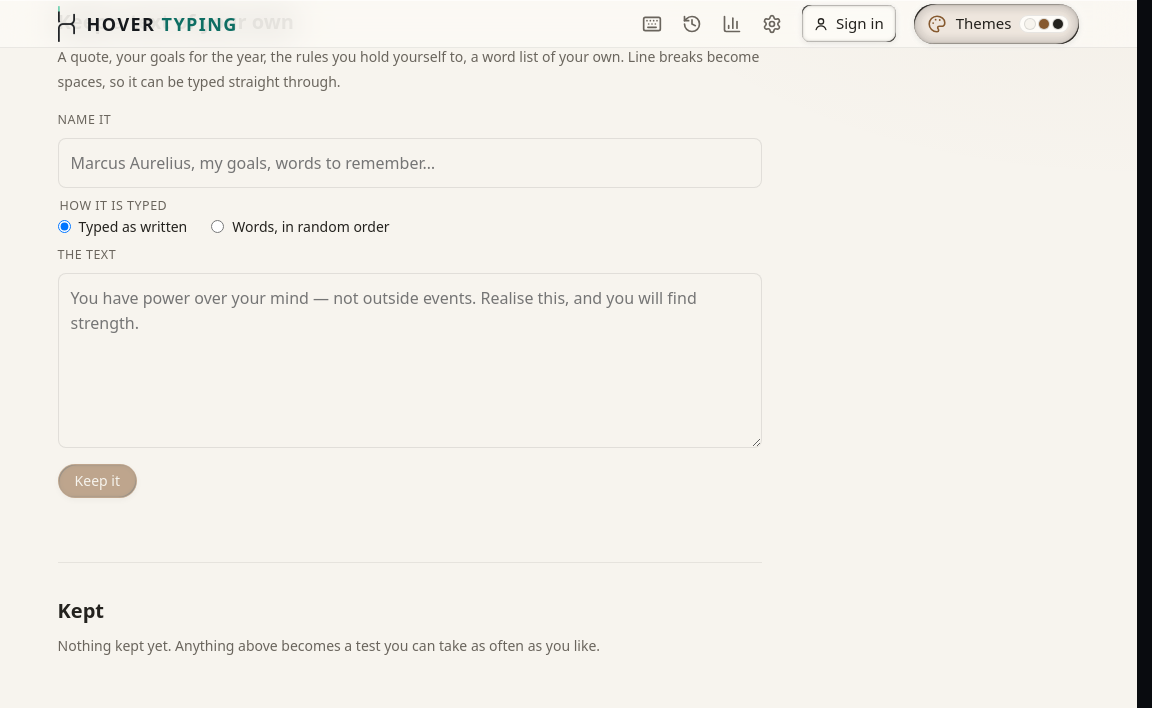
Test case: keeping a text of your own › names a text after its own opening when it is given no name
(page scrolled)
Type "The only way out is through the work itself." into the text box labelled "The text" at x=410, y=360, box [58,273,762,448]
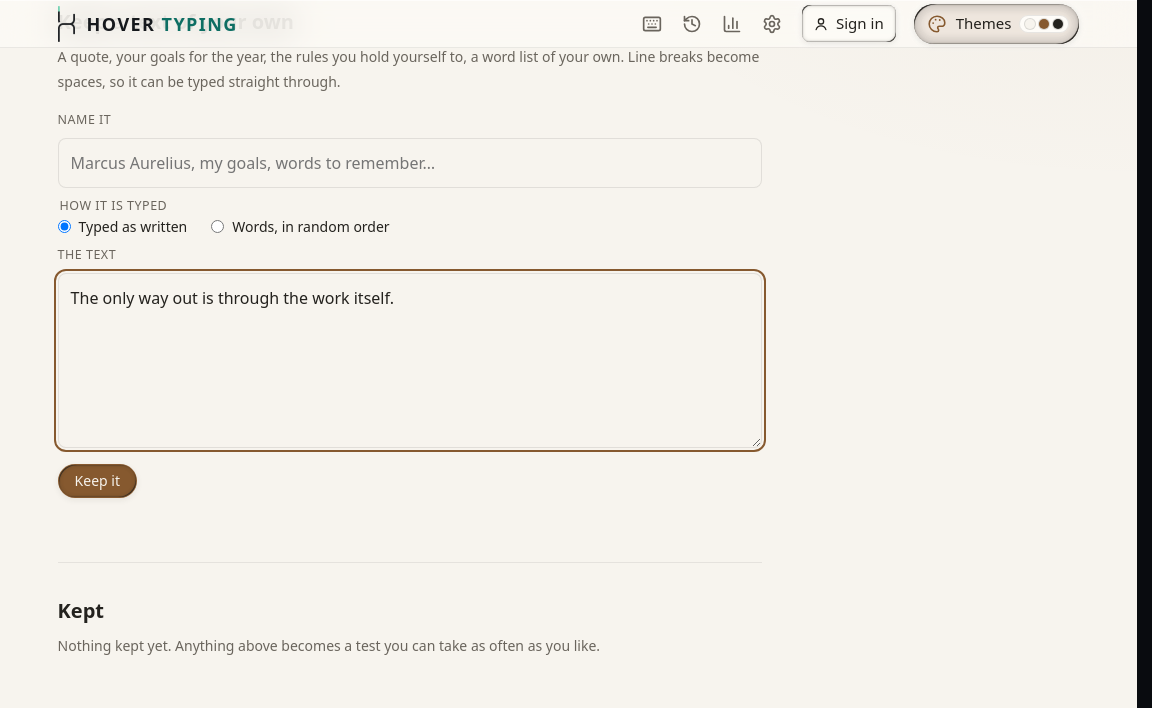
Click the button "Keep it" at x=97, y=481, box [58,464,137,498]
(page scrolled)
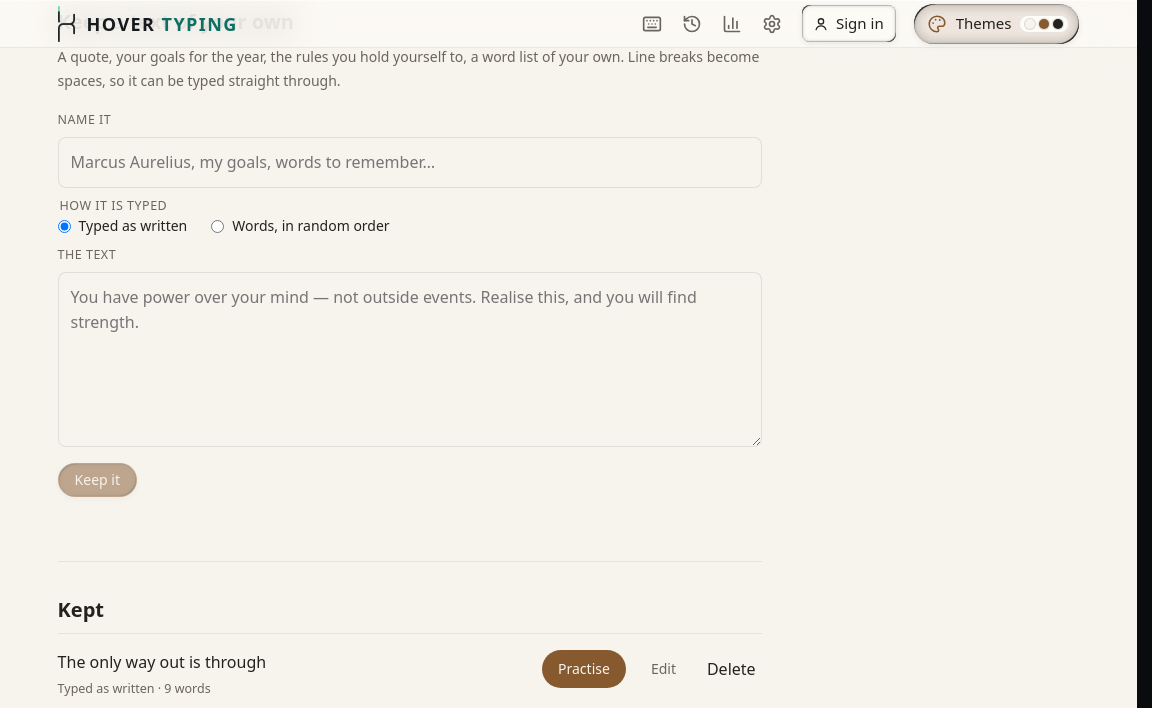
expect the text "The only way out is through" is shown: met, box [58,651,266,673]
